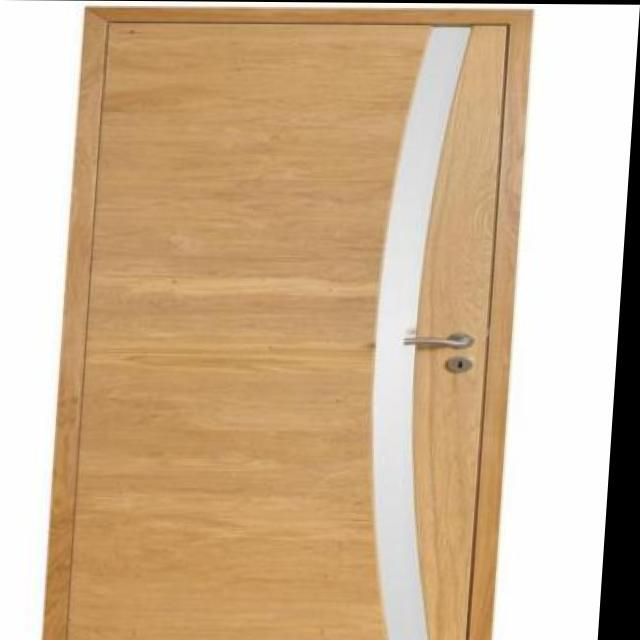door_handle: (394, 329, 485, 354)
